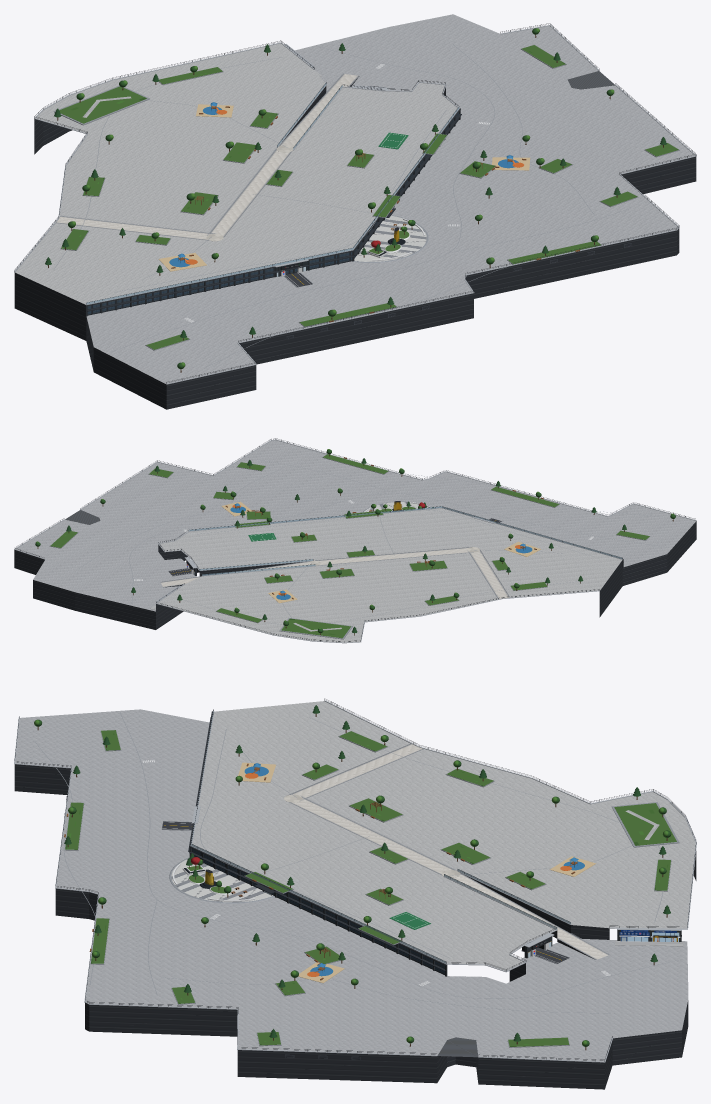
Rendered from place_금파힐커뮤니티.glb.
3 views of the same model, one above another, from view 1: azimuth 30°, elevation 25°; view 2: azimuth 150°, elevation 25°; view 3: azimuth 270°, elevation 25° (orthographic). The views are drawn at different scales.
Parts seen in each view (by area): view 1: Lower_Deck_TopSurface, Upper_Deck_TopSurface, Lower_SouthEast_RetainingWall, Parks_Playgrounds_Trees, Promenade_Main_L_Path, Lower_Coping_Fence (×2), Upper_SW_RetainingWall, Community_Center_SE_Facade, Community_SE_2F_GlassFacade, Lower_SW_EndWall, NW_Community_RoofGarden, RoundPark_StripedFloor (+4 smaller); view 2: Lower_Deck_TopSurface, Upper_Deck_TopSurface, Parks_Playgrounds_Trees, Lower_NE_EndWall, Lower_Coping_Fence (×2), Promenade_Main_L_Path, Lower_SW_EndWall, Upper_Coping_GlassRail, NW_Community_RoofGarden, Upper_SW_RetainingWall, Lower_SouthEast_RetainingWall; view 3: Lower_Deck_TopSurface, Upper_Deck_TopSurface, Lower_SouthEast_RetainingWall, Parks_Playgrounds_Trees, Promenade_Main_L_Path, Lower_Coping_Fence (×2), Lower_NE_EndWall, NW_Community_RoofGarden, RoundPark_StripedFloor, Community_Center_SE_Facade, Community_SE_2F_GlassFacade, Shop_105_Emart24_Shinhyup (+6 smaller).
Part boxes in pixels (bbox=[...]): Lower_Deck_TopSurface: bbox=[86, 14, 694, 383]; Upper_Deck_TopSurface: bbox=[15, 43, 457, 304]; Lower_SouthEast_RetainingWall: bbox=[166, 87, 696, 409]; Parks_Playgrounds_Trees: bbox=[45, 28, 679, 372]; Promenade_Main_L_Path: bbox=[56, 73, 358, 241]; Lower_Coping_Fence (×2): bbox=[14, 40, 696, 384]; Upper_SW_RetainingWall: bbox=[14, 272, 86, 340]; Community_Center_SE_Facade: bbox=[85, 108, 461, 316]; Community_SE_2F_GlassFacade: bbox=[87, 112, 458, 315]; Lower_SW_EndWall: bbox=[86, 316, 166, 409]; NW_Community_RoofGarden: bbox=[53, 85, 149, 125]; RoundPark_StripedFloor: bbox=[354, 215, 426, 261]; Lower_Deck_TopSurface: bbox=[15, 440, 695, 611]; Upper_Deck_TopSurface: bbox=[157, 508, 622, 642]; Parks_Playgrounds_Trees: bbox=[35, 449, 675, 635]; Lower_NE_EndWall: bbox=[33, 580, 155, 629]; Lower_Coping_Fence (×2): bbox=[80, 438, 696, 643]; Promenade_Main_L_Path: bbox=[160, 547, 510, 599]; Lower_SW_EndWall: bbox=[622, 521, 696, 585]; Upper_Coping_GlassRail: bbox=[189, 506, 622, 559]; NW_Community_RoofGarden: bbox=[279, 618, 352, 639]; Upper_SW_RetainingWall: bbox=[599, 560, 622, 617]; Lower_SouthEast_RetainingWall: bbox=[14, 550, 44, 574]; Lower_Deck_TopSurface: bbox=[15, 709, 688, 1061]; Upper_Deck_TopSurface: bbox=[192, 701, 695, 970]; Lower_SouthEast_RetainingWall: bbox=[14, 764, 612, 1089]; Parks_Playgrounds_Trees: bbox=[34, 705, 671, 1050]; Promenade_Main_L_Path: bbox=[284, 743, 609, 959]; Lower_Coping_Fence (×2): bbox=[14, 698, 696, 1056]; Lower_NE_EndWall: bbox=[612, 1000, 688, 1065]; NW_Community_RoofGarden: bbox=[612, 802, 679, 847]; RoundPark_StripedFloor: bbox=[171, 859, 273, 902]; Community_Center_SE_Facade: bbox=[188, 711, 447, 976]; Community_SE_2F_GlassFacade: bbox=[192, 848, 444, 974]; Shop_105_Emart24_Shinhyup: bbox=[615, 928, 683, 946].
Bounding box in the file's own units: 391 × 26.73 × 319.
Materials: 58 (26 with a texture image).
